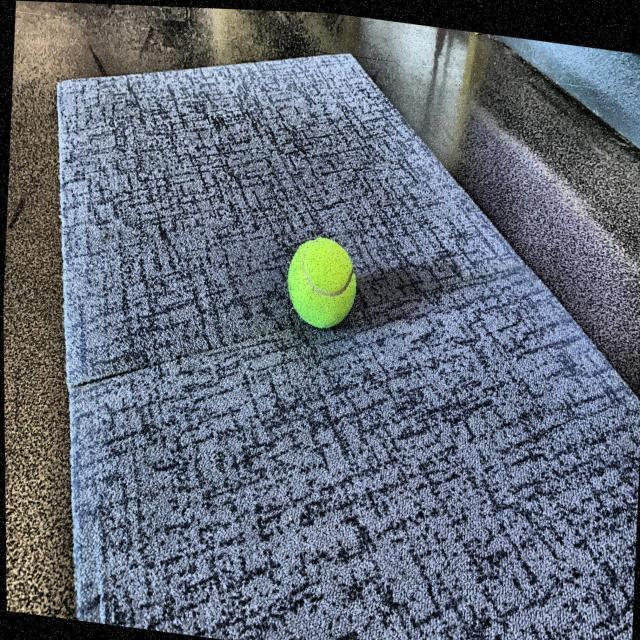tennis-ball: (280, 231, 366, 337)
